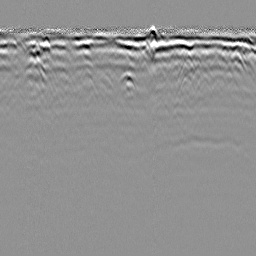cavity: (118, 69, 137, 85)
